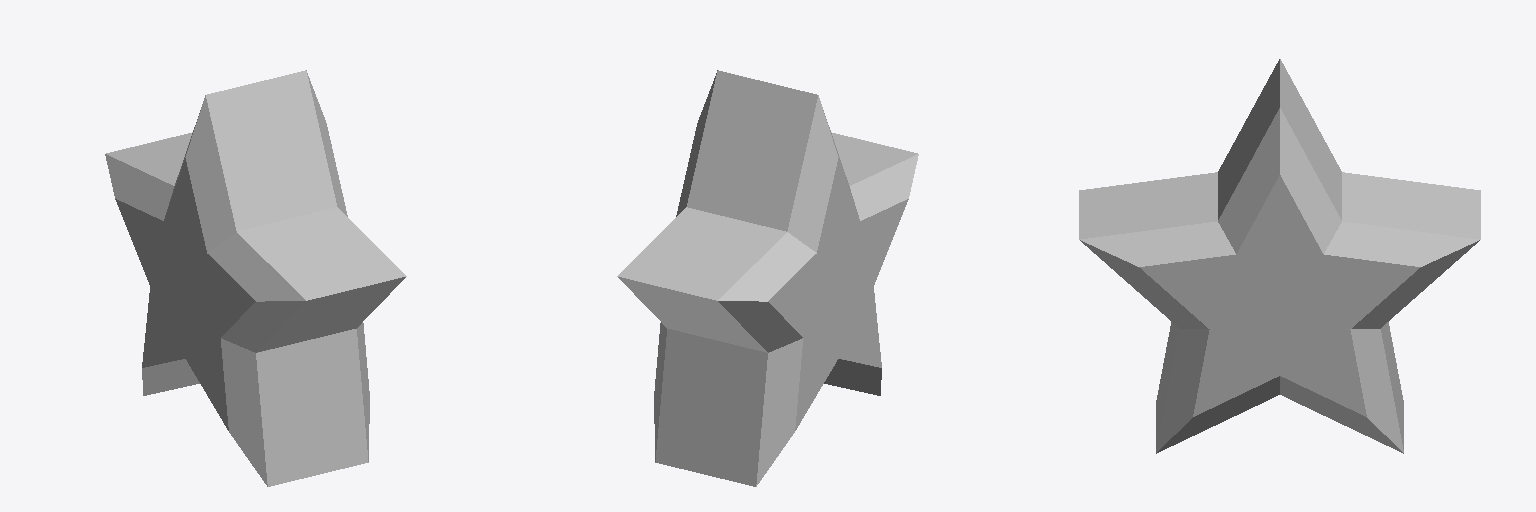
Rendered from star.obj.
3 renders of one model, left to right at view 1: azimuth 30°, elevation 25°; view 2: azimuth 150°, elevation 25°; view 3: azimuth 270°, elevation 25°, orthographic.
Visible parts, largest first — view 1: Star; view 2: Star; view 3: Star.
Part boxes in pixels (x1,y1,x2,y2): Star: (105, 70, 406, 486); Star: (617, 70, 918, 486); Star: (1079, 59, 1480, 453).
Bounding box in the file's own units: 1.96 × 4.6 × 4.84.